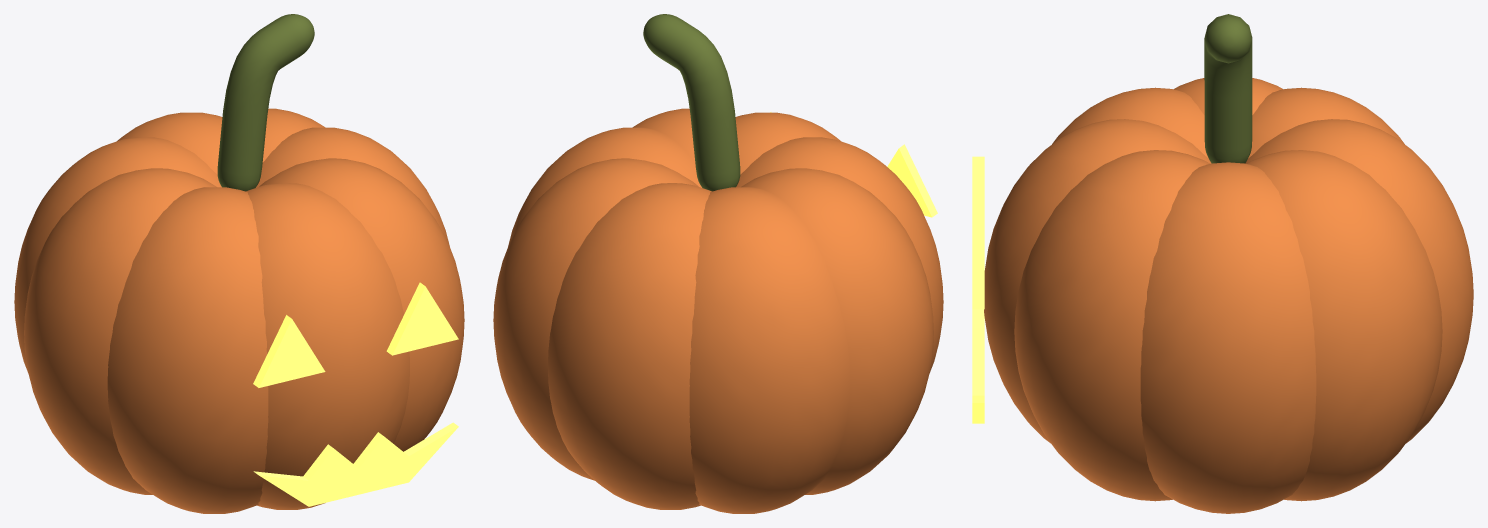
Rendered from deco_calabaza.glb.
3 views of the same model, side by side, from view 1: azimuth 30°, elevation 25°; view 2: azimuth 150°, elevation 25°; view 3: azimuth 270°, elevation 25° (orthographic). The views are drawn at different scales.
Parts seen in each view (by area): view 1: gajo 5.002, gajo 6.002, gajo 4.002, gajo 7.002, tallo calabaza.002, gajo 3.002, boca calabaza.002, gajo 0.002, gajo 2.002, ojo calabaza -1.002, ojo calabaza 1.002, gajo 1.002; view 2: gajo 3.002, gajo 2.002, gajo 4.002, gajo 1.002, tallo calabaza.002, gajo 5.002, gajo 0.002, gajo 6.002, gajo 7.002, ojo calabaza -1.002; view 3: gajo 0.002, gajo 7.002, gajo 1.002, gajo 2.002, gajo 6.002, tallo calabaza.002, gajo 3.002, gajo 5.002, boca calabaza.002, ojo calabaza 1.002, gajo 4.002, ojo calabaza -1.002.
Boxes of the visible parts, x1,y1,x2,y2 form: gajo 5.002: (107,187,268,513); gajo 6.002: (246,183,409,509); gajo 4.002: (24,168,216,494); gajo 7.002: (259,158,464,451); tallo calabaza.002: (217,14,314,191); gajo 3.002: (14,137,221,373); boca calabaza.002: (253,422,458,506); gajo 0.002: (256,127,449,246); gajo 2.002: (117,112,222,174); ojo calabaza -1.002: (253,315,325,387); ojo calabaza 1.002: (386,282,458,355); gajo 1.002: (262,108,325,162); gajo 3.002: (689,187,850,513); gajo 2.002: (548,183,711,509); gajo 4.002: (741,168,933,494); gajo 1.002: (493,158,698,480); tallo calabaza.002: (643,14,740,191); gajo 5.002: (736,137,943,373); gajo 0.002: (508,127,701,246); gajo 6.002: (735,112,840,174); gajo 7.002: (632,108,695,162); ojo calabaza -1.002: (887,144,937,217); gajo 0.002: (1140,162,1316,513); gajo 7.002: (1014,150,1210,501); gajo 1.002: (1246,150,1442,501); gajo 2.002: (1245,119,1473,443); gajo 6.002: (984,119,1211,443); tallo calabaza.002: (1204,14,1252,163); gajo 3.002: (1248,87,1404,158); gajo 5.002: (1052,87,1208,157); boca calabaza.002: (972,309,984,423); ojo calabaza 1.002: (972,226,984,309); gajo 4.002: (1174,78,1282,114); ojo calabaza -1.002: (972,156,984,226).
Size of the model in its own units: 0.2374 by 0.2501 by 0.2427.
